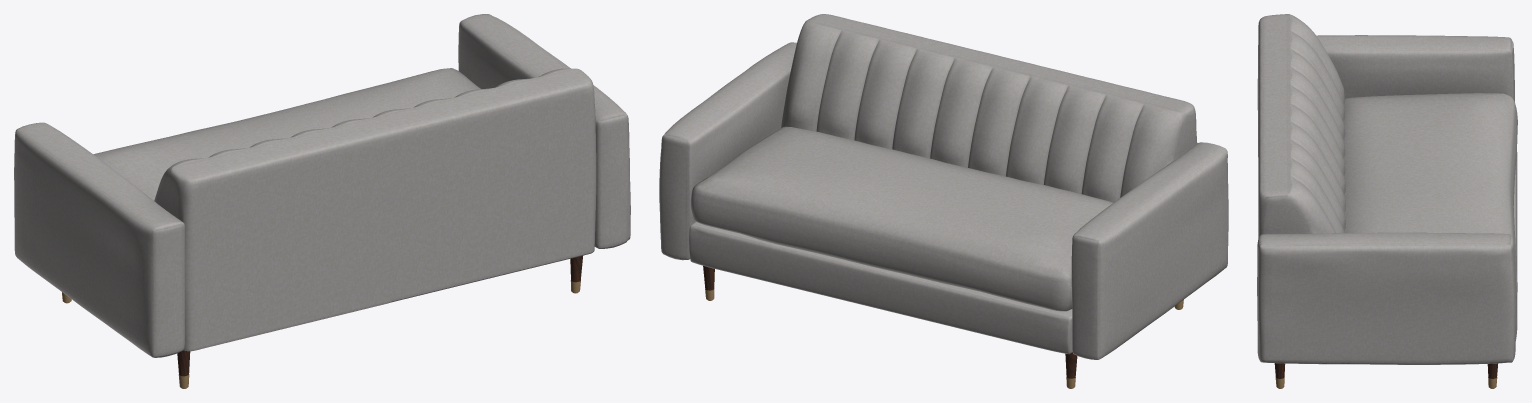
The model's file is abo_B07QCMB7LV.glb.
3 renders of one model, left to right at view 1: azimuth 30°, elevation 25°; view 2: azimuth 150°, elevation 25°; view 3: azimuth 270°, elevation 25°, orthographic. The views are drawn at different scales.
Parts seen in each view (by area): view 1: RootNode; view 2: RootNode; view 3: RootNode.
Part boxes in pixels (x1,y1,x2,y2): RootNode: (14, 14, 630, 388); RootNode: (659, 14, 1228, 388); RootNode: (1257, 14, 1517, 388).
Size of the model in its own units: 1.89 by 0.8144 by 0.9688.
Materials: 1 (1 with a texture image).
